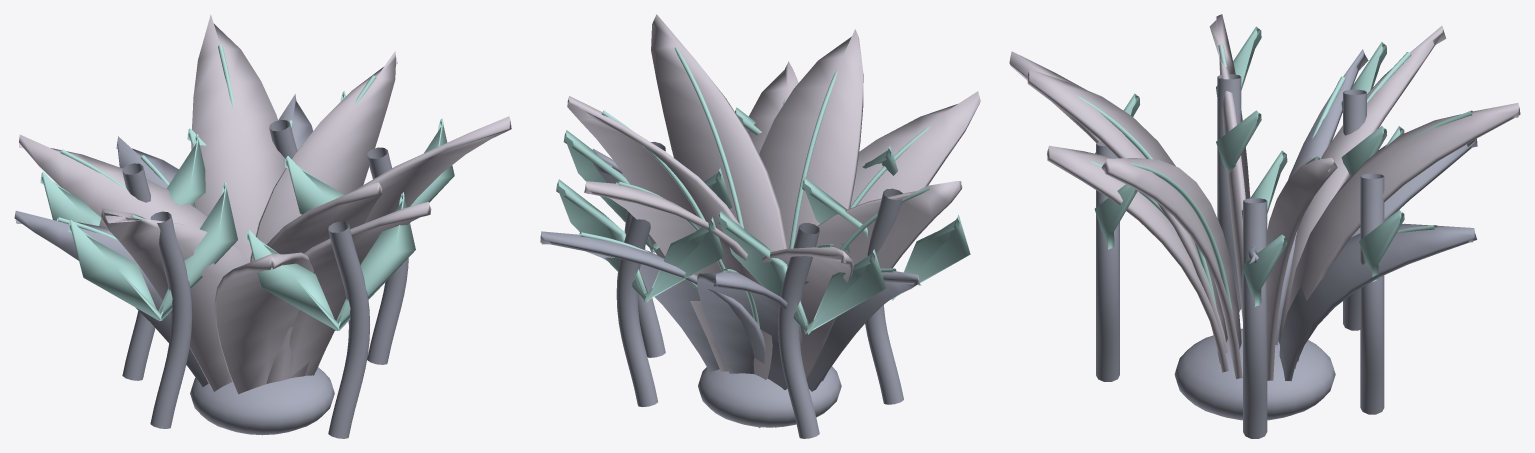
The model's file is bio_mist_leaf_22_near.glb.
3 views of the same model, side by side, from view 1: azimuth 30°, elevation 25°; view 2: azimuth 150°, elevation 25°; view 3: azimuth 270°, elevation 25° (orthographic). The views are drawn at different scales.
Visible parts, largest first — view 1: Cupped condensate leaf.011, Cupped condensate leaf.008, Cupped condensate leaf.007, Cupped condensate leaf.004, Root rosette, Secondary fan lobe.008, Secondary fan lobe.004, Cupped condensate leaf.001, Cupped condensate leaf.010, Branching support.002, Branching support.004, Cupped condensate leaf.002 (+9 smaller); view 2: Cupped condensate leaf.002, Cupped condensate leaf.005, Cupped condensate leaf.007, Cupped condensate leaf.008, Cupped condensate leaf.006, Cupped condensate leaf.003, Cupped condensate leaf.011, Root rosette, Cupped condensate leaf.004, Secondary fan lobe.002, Secondary fan lobe.006, Branching support.001 (+14 smaller); view 3: Cupped condensate leaf.011, Root rosette, Cupped condensate leaf.003, Cupped condensate leaf.005, Cupped condensate leaf.002, Cupped condensate leaf.001, Branching support, Cupped condensate leaf.010, Branching support.003, Cupped condensate leaf.008, Branching support.002, Cupped condensate leaf.004 (+12 smaller).
Boxes of the visible parts, box(x1,y1,x2,y2) form: Cupped condensate leaf.011: box(191, 14, 285, 261); Cupped condensate leaf.008: box(250, 51, 397, 262); Cupped condensate leaf.007: box(214, 252, 313, 394); Cupped condensate leaf.004: box(101, 208, 249, 391); Root rosette: box(190, 367, 334, 435); Secondary fan lobe.008: box(68, 182, 237, 321); Secondary fan lobe.004: box(246, 192, 415, 330); Cupped condensate leaf.001: box(19, 134, 206, 229); Cupped condensate leaf.010: box(289, 202, 431, 376); Branching support.002: box(328, 221, 369, 438); Branching support.004: box(150, 211, 192, 428); Cupped condensate leaf.002: box(266, 182, 382, 383); Cupped condensate leaf.002: box(759, 29, 863, 248); Cupped condensate leaf.005: box(651, 14, 787, 251); Cupped condensate leaf.007: box(850, 91, 980, 206); Cupped condensate leaf.008: box(567, 96, 741, 232); Cupped condensate leaf.006: box(697, 271, 801, 427); Cupped condensate leaf.003: box(540, 231, 765, 372); Cupped condensate leaf.011: box(584, 181, 772, 379); Root rosette: box(698, 366, 841, 427); Cupped condensate leaf.004: box(816, 181, 962, 381); Secondary fan lobe.002: box(717, 211, 886, 334); Secondary fan lobe.006: box(556, 179, 724, 302); Branching support.001: box(778, 223, 819, 438); Cupped condensate leaf.011: box(1287, 103, 1520, 368); Root rosette: box(1174, 328, 1335, 420); Cupped condensate leaf.003: box(1279, 223, 1477, 381); Cupped condensate leaf.005: box(1101, 158, 1242, 379); Cupped condensate leaf.002: box(1027, 69, 1223, 363); Cupped condensate leaf.001: box(1278, 26, 1446, 345); Branching support: box(1243, 198, 1267, 438); Cupped condensate leaf.010: box(1047, 145, 1228, 372); Branching support.003: box(1360, 173, 1384, 414); Cupped condensate leaf.008: box(1267, 157, 1337, 380); Branching support.002: box(1096, 141, 1119, 381); Cupped condensate leaf.004: box(1209, 14, 1250, 320).
Size of the model in its own units: 1.88 by 1.42 by 1.9.
